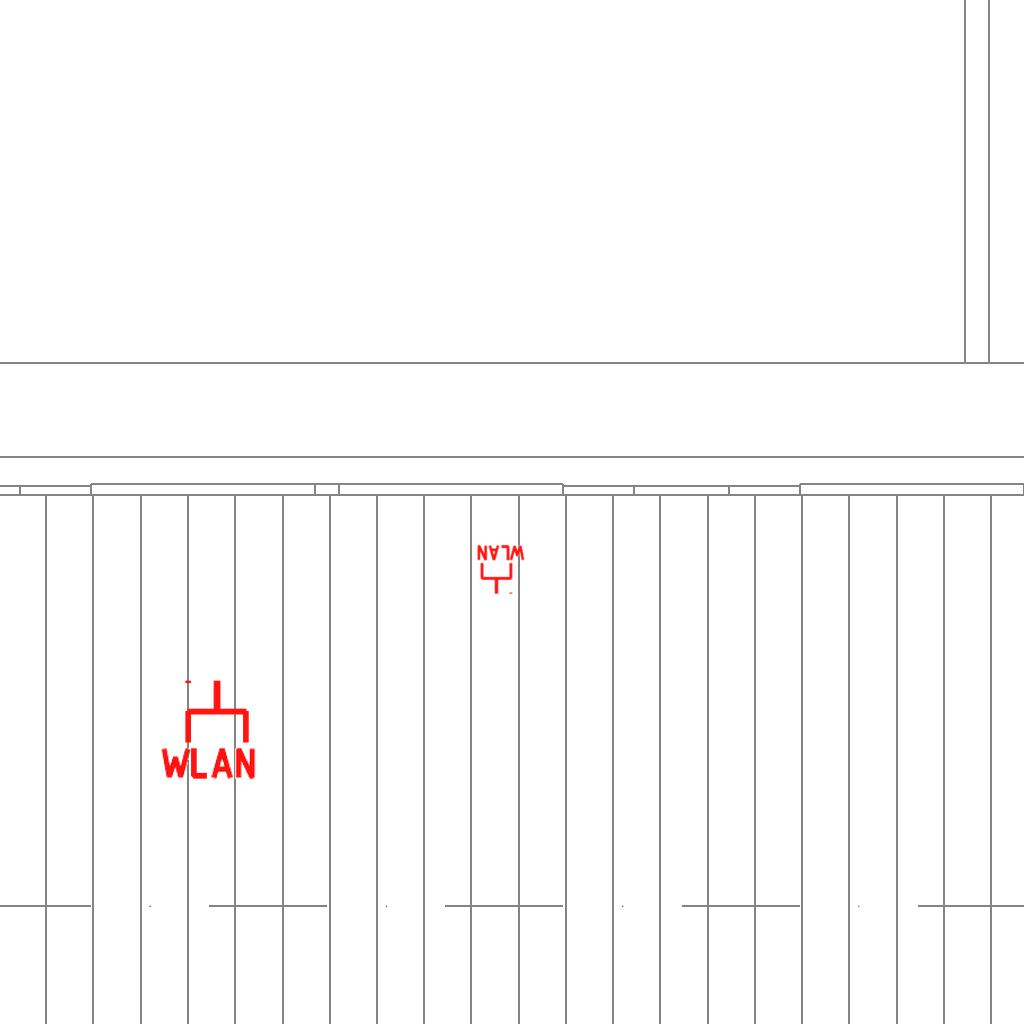WLAN: (156, 676, 260, 781), (475, 544, 527, 596)
